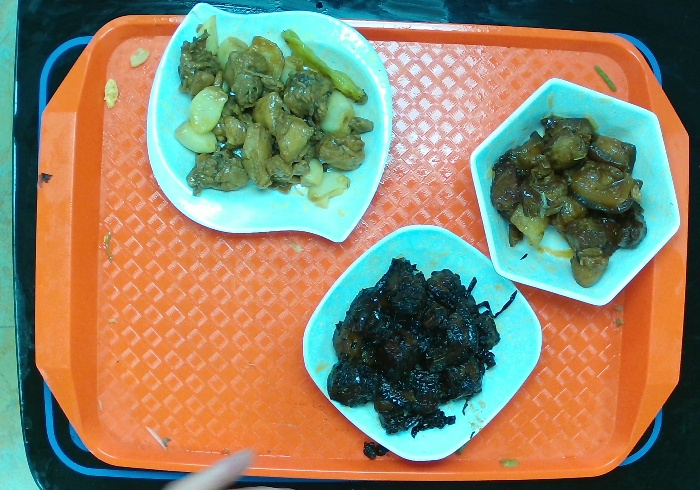RJxy-Liu_Jiao_Wan: (468, 75, 686, 311)
RJxy-Shuang_Jiao_Pan: (139, 1, 396, 248)
RJxy-Si_Fang_Wan: (300, 221, 548, 469)
